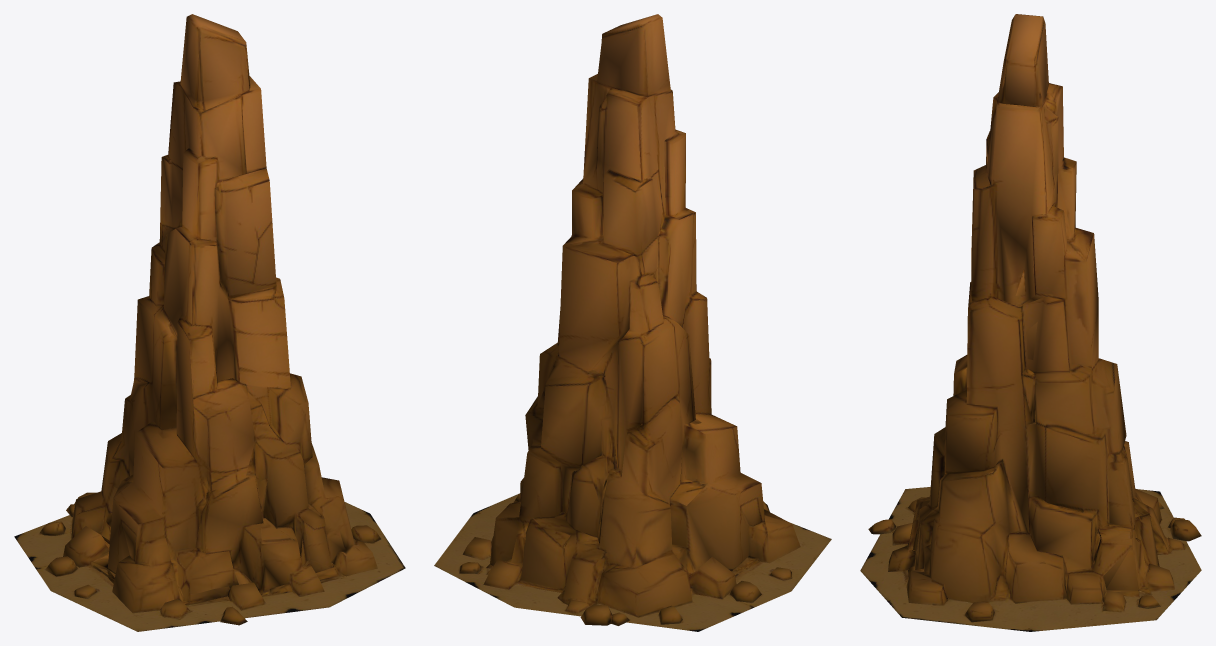
The model's file is spire.glb.
The picture shows the model from 3 angles, left to right: view 1: azimuth 30°, elevation 25°; view 2: azimuth 150°, elevation 25°; view 3: azimuth 270°, elevation 25°; orthographic projection.
Visible parts, largest first — view 1: tripo_node_f4717319-ea8e-4ac9-9e7a-158020d3e851; view 2: tripo_node_f4717319-ea8e-4ac9-9e7a-158020d3e851; view 3: tripo_node_f4717319-ea8e-4ac9-9e7a-158020d3e851.
Boxes of the visible parts, x1,y1,x2,y2 form: tripo_node_f4717319-ea8e-4ac9-9e7a-158020d3e851: (14,14,405,631); tripo_node_f4717319-ea8e-4ac9-9e7a-158020d3e851: (434,14,831,631); tripo_node_f4717319-ea8e-4ac9-9e7a-158020d3e851: (860,14,1201,631).
Bounding box in the file's own units: 5.34 × 8.66 × 5.
Materials: 1 (1 with a texture image).
